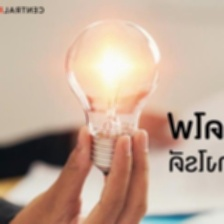light_bulb: (63, 14, 163, 182)
